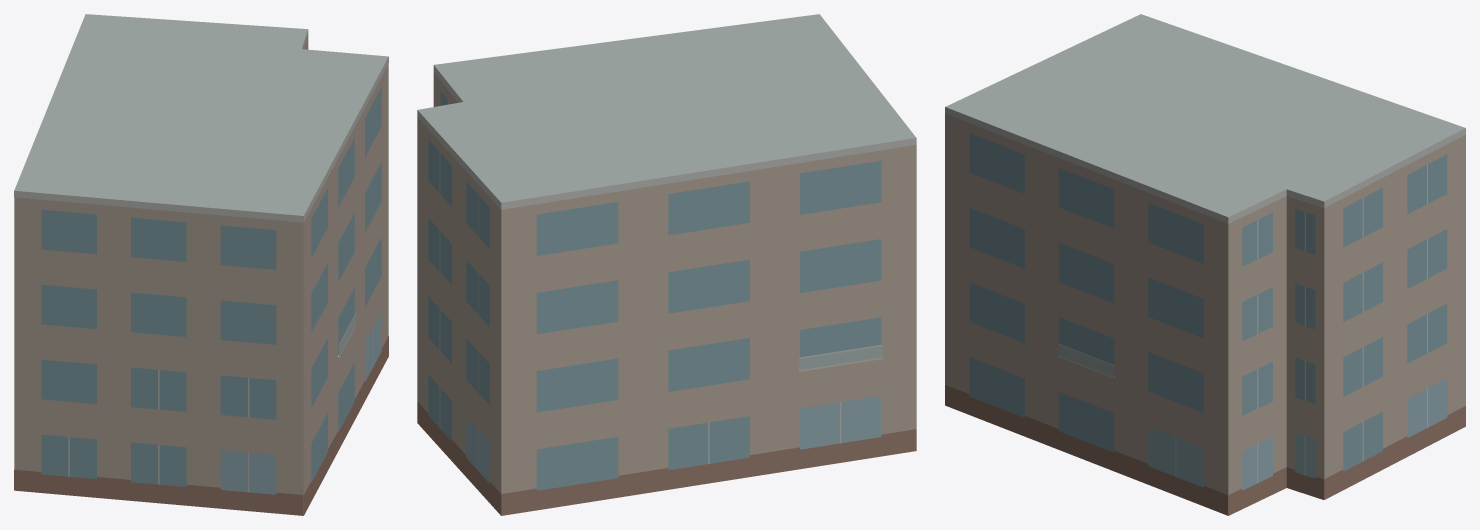
The model's file is survey-upis-32488194.glb.
3 views of the same model, side by side, from view 1: azimuth 30°, elevation 25°; view 2: azimuth 150°, elevation 25°; view 3: azimuth 270°, elevation 25° (orthographic). The views are drawn at different scales.
Visible parts, largest first — view 1: survey-upis-32488194.tmp; view 2: survey-upis-32488194.tmp; view 3: survey-upis-32488194.tmp.
Part boxes in pixels (x1,y1,x2,y2): survey-upis-32488194.tmp: (14,14,388,515); survey-upis-32488194.tmp: (417,14,916,515); survey-upis-32488194.tmp: (945,14,1465,515).
Size of the model in its own units: 16.15 by 11.05 by 17.48.
